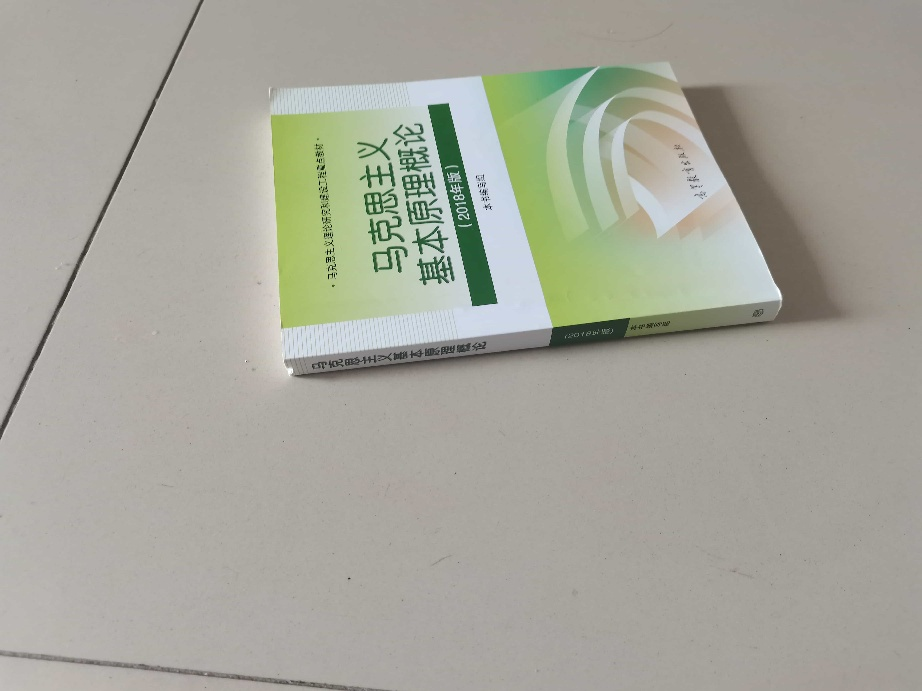book: (255, 56, 793, 388)
